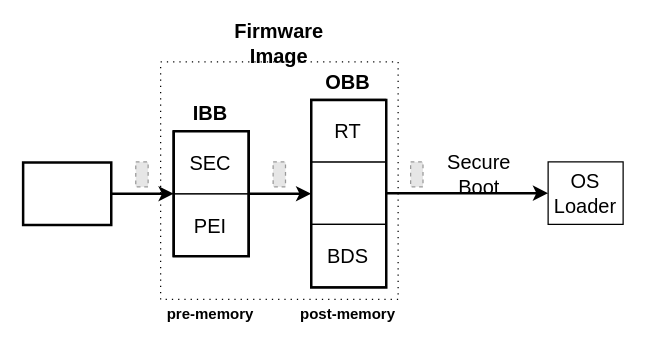
This 645x345 diagram has some shape labels left out. Grey dashed boxes stand in for pictures. The shapes that lost their labels are listed below. From the top down, each one's centre as x and y in pixels, then its label:
(66,193): Intel ME (HRoT)
(347,192): DXE
